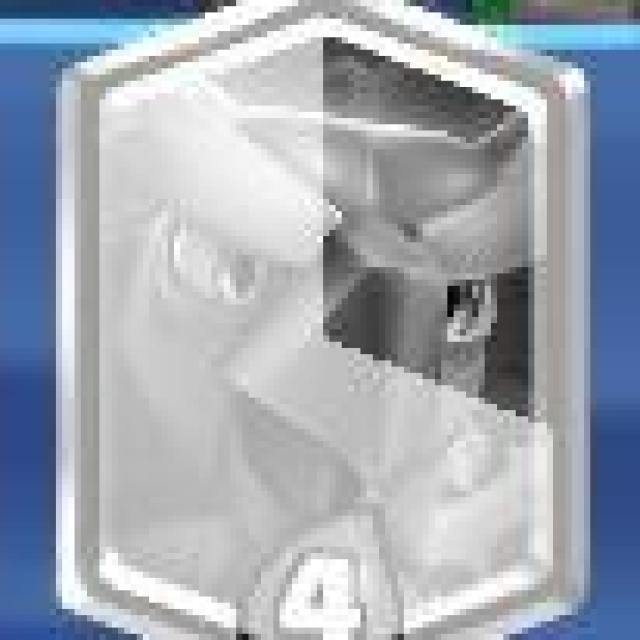Phoenix: (61, 0, 584, 640)
